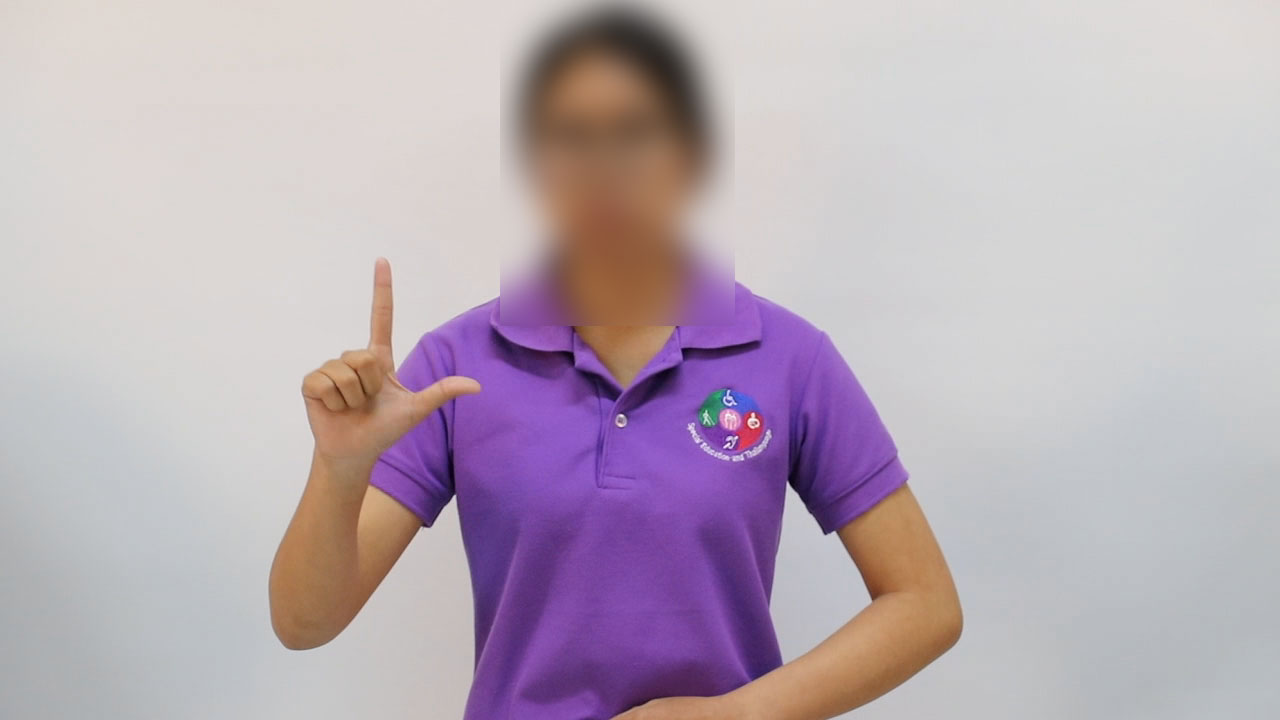lor: (286, 246, 491, 482)
